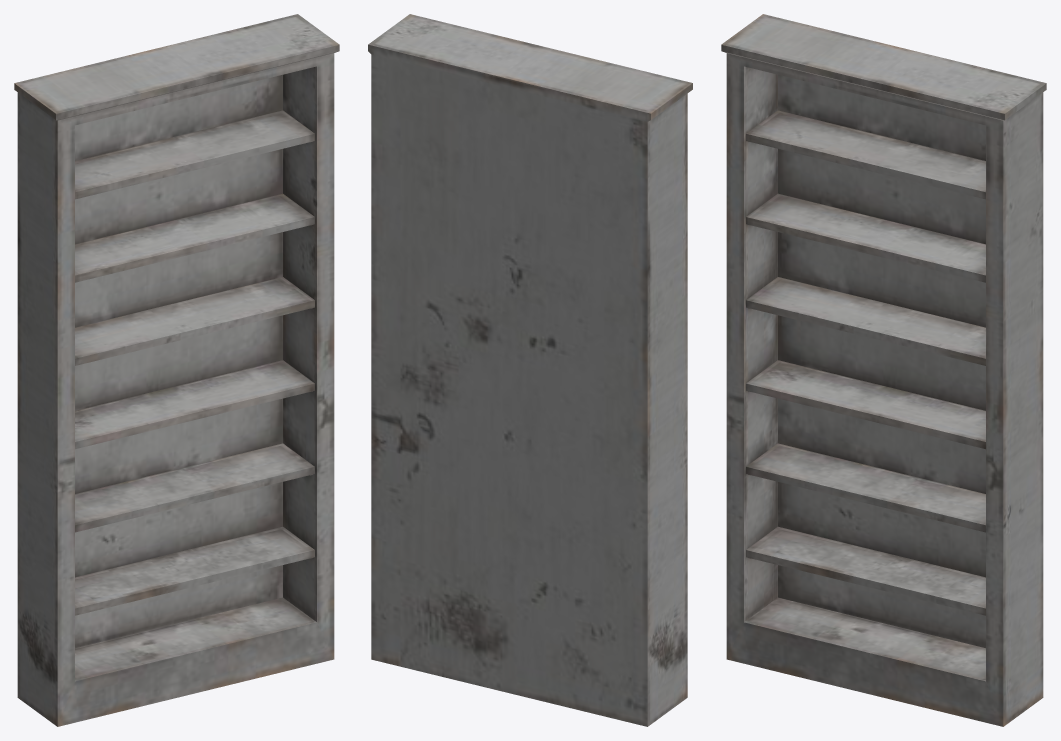
Rendered from Shelf_01.gltf.
3 views of the same model, side by side, from view 1: azimuth 30°, elevation 25°; view 2: azimuth 150°, elevation 25°; view 3: azimuth 330°, elevation 25° (orthographic).
Visible parts, largest first — view 1: Shelf_01; view 2: Shelf_01; view 3: Shelf_01.
Boxes of the visible parts, left/top/right/bottom form: Shelf_01: left=14, top=14, right=339, bottom=726; Shelf_01: left=368, top=14, right=692, bottom=726; Shelf_01: left=721, top=14, right=1046, bottom=726.
Size of the model in its own units: 1 by 2.08 by 0.257.
1 material, 1 textured.
